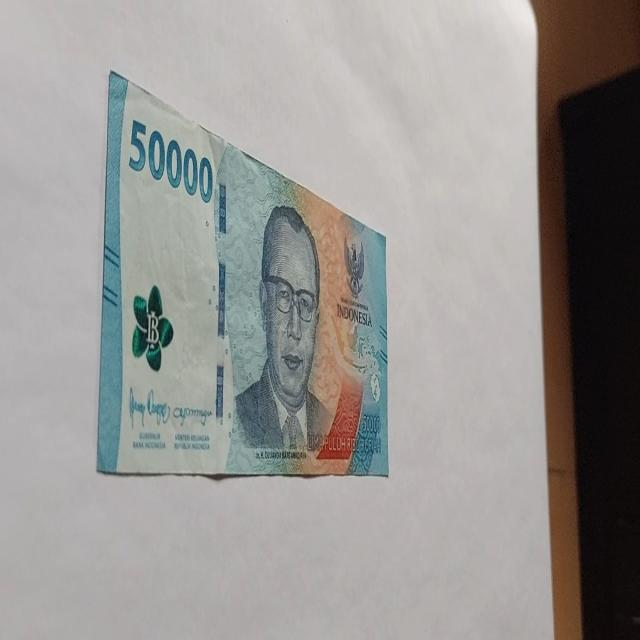lima puluh ribu rupiah: (96, 70, 390, 480), (226, 203, 334, 472), (127, 116, 214, 205)
